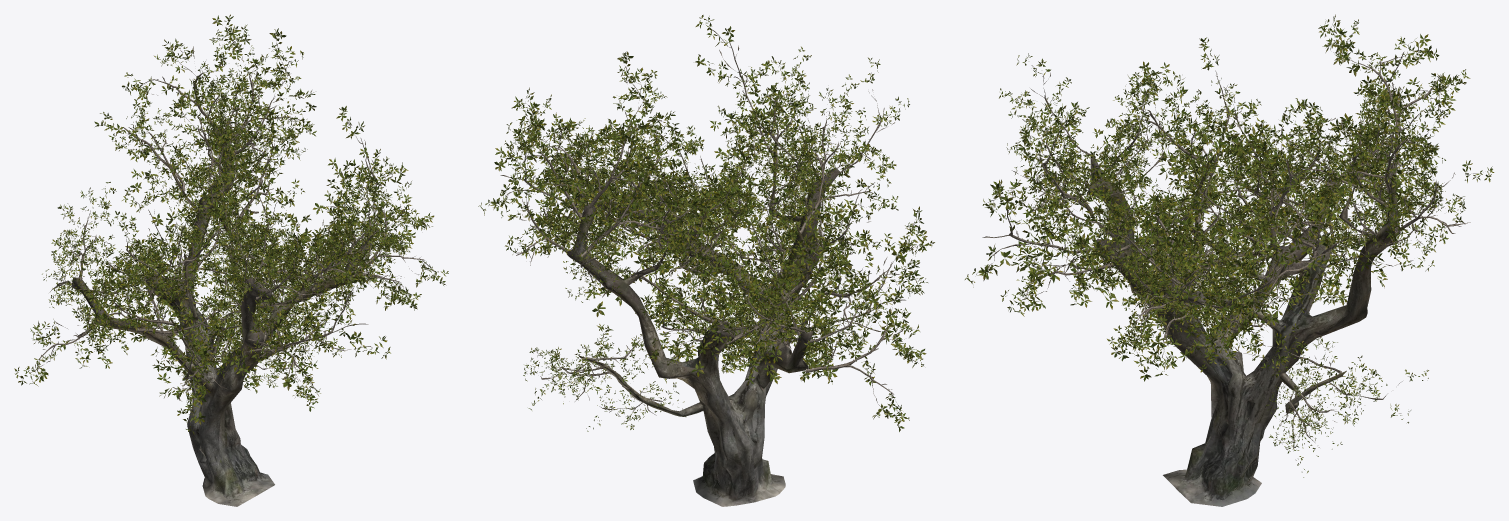
Rendered from tree1.glb.
The picture shows the model from 3 angles, left to right: view 1: azimuth 30°, elevation 25°; view 2: azimuth 150°, elevation 25°; view 3: azimuth 270°, elevation 25°; orthographic projection. The views are drawn at different scales.
Visible parts, largest first — view 1: island_tree_01_LOD0; view 2: island_tree_01_LOD0; view 3: island_tree_01_LOD0.
Boxes of the visible parts, x1=… form: island_tree_01_LOD0: x1=14, y1=14, x2=448, y2=506; island_tree_01_LOD0: x1=478, y1=15, x2=934, y2=506; island_tree_01_LOD0: x1=965, y1=14, x2=1494, y2=506.
Bounding box in the file's own units: 4.75 × 5.02 × 4.82.
3 materials, 3 textured.
